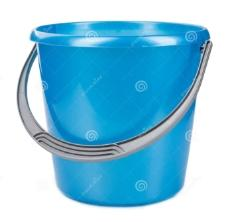SEAU: (4, 0, 228, 222)
